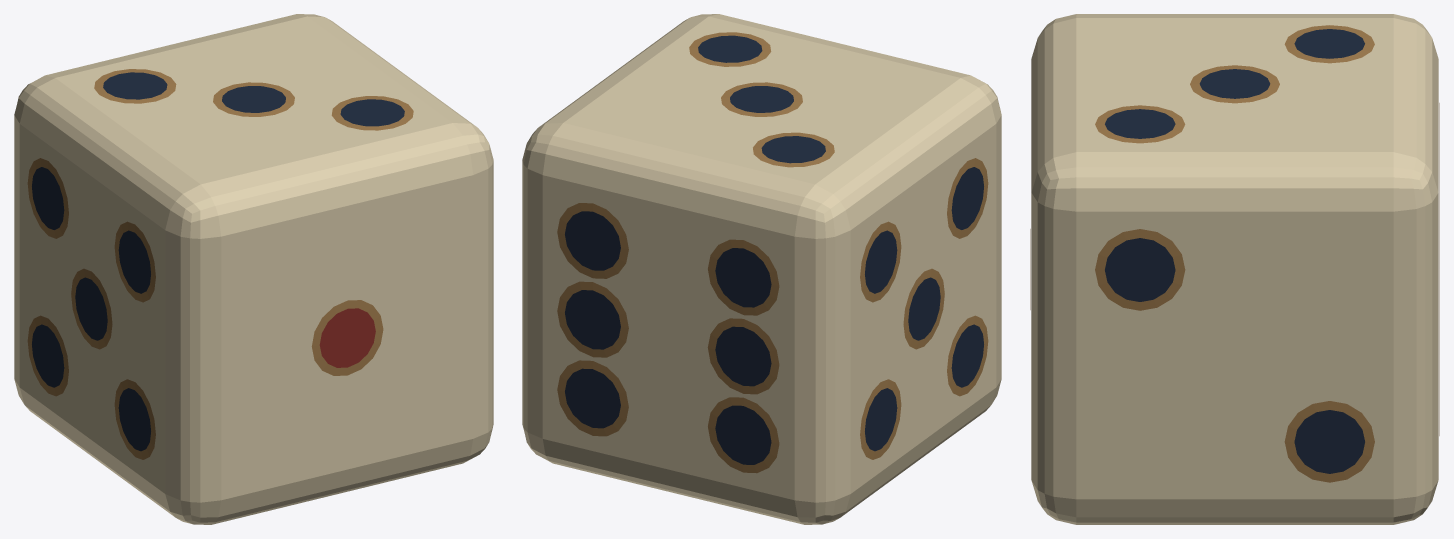
File: die.glb
3 views of the same model, side by side, from view 1: azimuth 30°, elevation 25°; view 2: azimuth 150°, elevation 25°; view 3: azimuth 270°, elevation 25° (orthographic). The views are drawn at different scales.
Parts seen in each view (by area): view 1: Zar; view 2: Zar; view 3: Zar.
Boxes of the visible parts, x1,y1,x2,y2 form: Zar: (14,14,493,524); Zar: (522,14,1001,524); Zar: (1030,14,1439,524).
Bounding box in the file's own units: 1.01 × 1.01 × 1.01.
